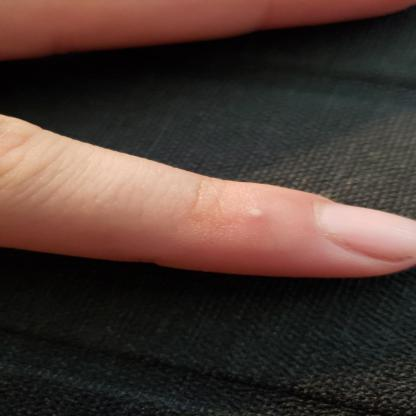Fire ant: (241, 203, 270, 222)
